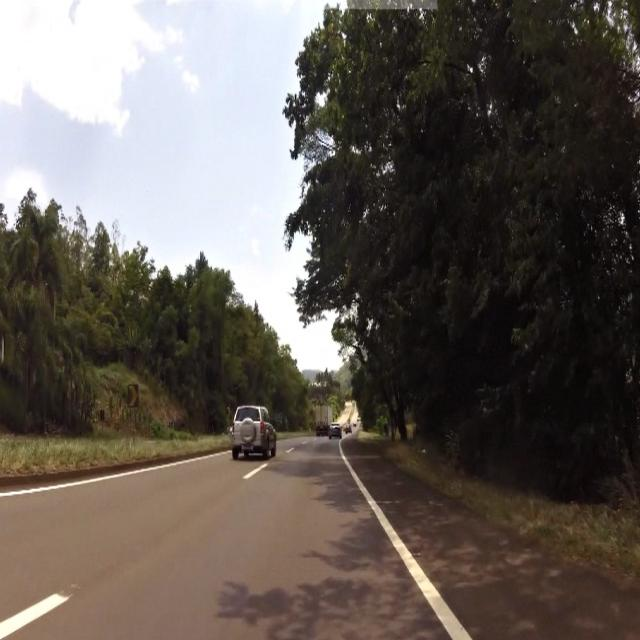Del: (127, 386, 140, 410)
